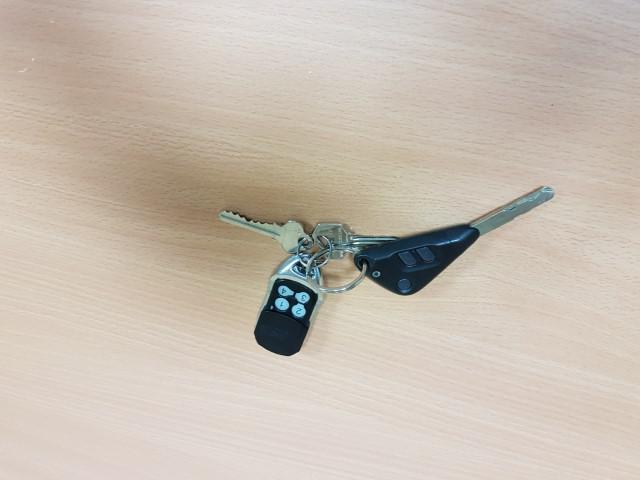key: (350, 179, 563, 307)
